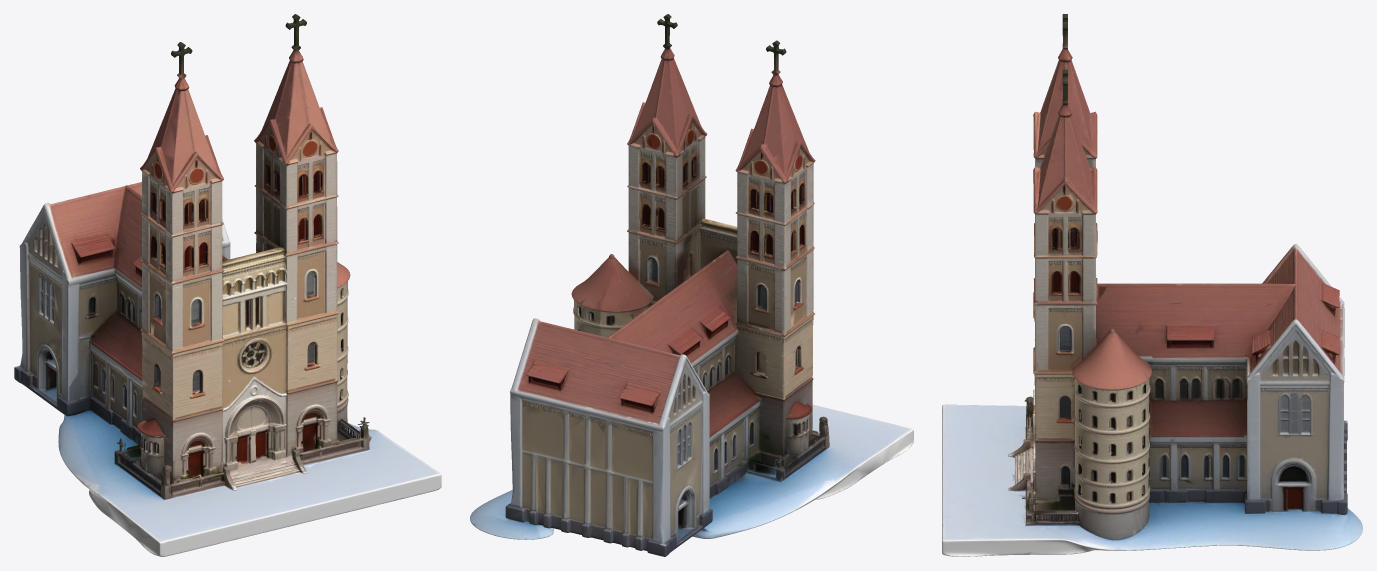
File: st-michael-cathedral.glb
3 renders of one model, left to right at view 1: azimuth 30°, elevation 25°; view 2: azimuth 150°, elevation 25°; view 3: azimuth 270°, elevation 25°, orthographic. The views are drawn at different scales.
Parts seen in each view (by area): view 1: node_0; view 2: node_0; view 3: node_0.
Boxes of the visible parts, x1,y1,x2,y2 form: node_0: (14, 14, 441, 556); node_0: (470, 14, 913, 556); node_0: (942, 14, 1362, 556).
Bounding box in the file's own units: 0.5451 × 0.8215 × 0.702.
Materials: 1 (1 with a texture image).
